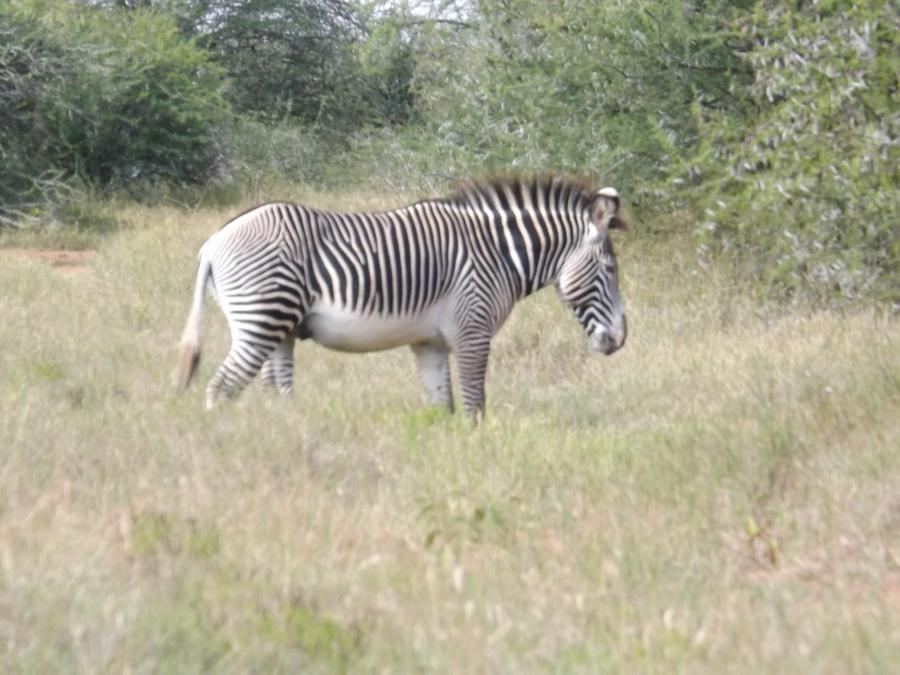zebra_grevys: (209, 206, 498, 343)
